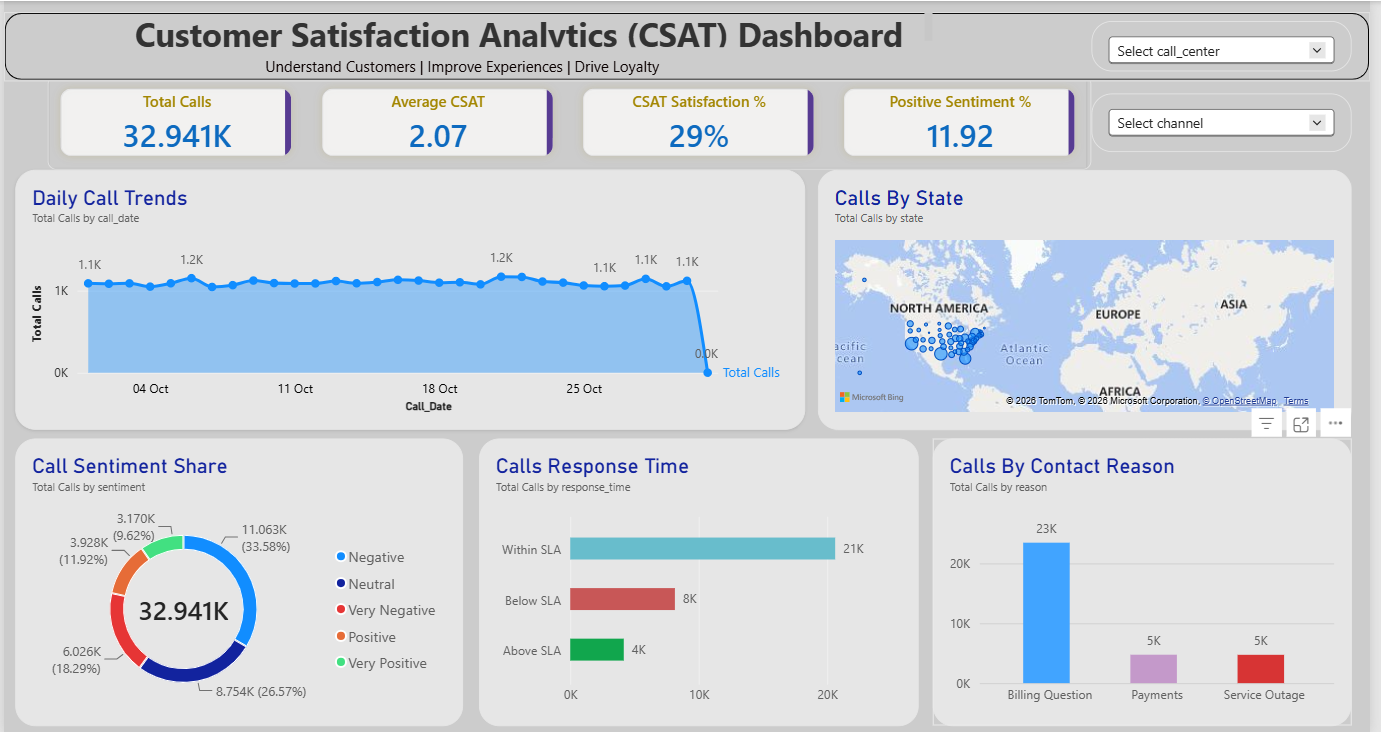

What the dashboard file says about the page in this screenshot:
{"tool":"powerbi","page":{"name":"Page 1","canvas":[1345,722],"ordinal":0},"visuals":[{"type":"cardVisual","fields":{"Data":["CSAT_cleaned2.Total Calls","CSAT_cleaned2.Average CSAT","CSAT_cleaned2.CSAT Satisfaction %","CSAT_cleaned2.Positive Sentiment %"]},"box":[43.1,73.8,1027.4,92.3],"z":0},{"type":"areaChart","title":"Daily Call Trends","fields":{"Category":["CSAT_cleaned2.call_date"],"Y":["CSAT_cleaned2.Total Calls"]},"box":[11.1,166.1,777.6,255.9],"z":1000},{"type":"shape","box":[0,11.1,1344.8,67.7],"z":2000},{"type":"textbox","box":[129.2,11.1,785,34.5],"z":3000},{"type":"textbox","box":[257.2,54.1,643.5,24.6],"z":4000},{"type":"map","title":"Calls By State","fields":{"Category":["CSAT_cleaned2.state"],"Size":["CSAT_cleaned2.Total Calls"]},"box":[801,166.1,525.4,255.9],"z":4001},{"type":"donutChart","title":"Call Sentiment Share","fields":{"Category":["CSAT_cleaned2.sentiment"],"Y":["CSAT_cleaned2.Total Calls"]},"box":[11.1,430.6,440.5,283],"z":4002},{"type":"clusteredBarChart","title":"Calls Response Time","fields":{"Category":["CSAT_cleaned2.response_time"],"Y":["CSAT_cleaned2.Total Calls"]},"box":[467.6,430.6,433.1,283],"z":4003},{"type":"clusteredColumnChart","title":" Calls By Contact Reason","fields":{"Category":["CSAT_cleaned2.reason"],"Y":["CSAT_cleaned2.Total Calls"]},"box":[914.2,430.6,412.2,283],"z":4004},{"type":"listSlicer","fields":{"Values":["CSAT_cleaned2.call_center"]},"box":[1070.5,19.7,255.9,49.2],"z":4005},{"type":"listSlicer","fields":{"Values":["CSAT_cleaned2.channel"]},"box":[1070.5,91.1,255.9,57.8],"z":4006}]}

Visuals, with their boxes in screenshot pixels (x1, y1, x2, y2), scaled from the page's 1345x722 canvas onto the 1381x732 screenshot:
cardVisual - CSAT_cleaned2.Total Calls x CSAT_cleaned2.Average CSAT: x1=44 y1=75 x2=1099 y2=168
"Daily Call Trends" areaChart: x1=11 y1=168 x2=810 y2=428
shape: x1=0 y1=11 x2=1380 y2=80
textbox: x1=133 y1=11 x2=939 y2=46
textbox: x1=264 y1=55 x2=925 y2=80
"Calls By State" map: x1=822 y1=168 x2=1362 y2=428
"Call Sentiment Share" donutChart: x1=11 y1=437 x2=464 y2=723
"Calls Response Time" clusteredBarChart: x1=480 y1=437 x2=925 y2=723
" Calls By Contact Reason" clusteredColumnChart: x1=939 y1=437 x2=1362 y2=723
listSlicer - CSAT_cleaned2.call_center: x1=1099 y1=20 x2=1362 y2=70
listSlicer - CSAT_cleaned2.channel: x1=1099 y1=92 x2=1362 y2=151
